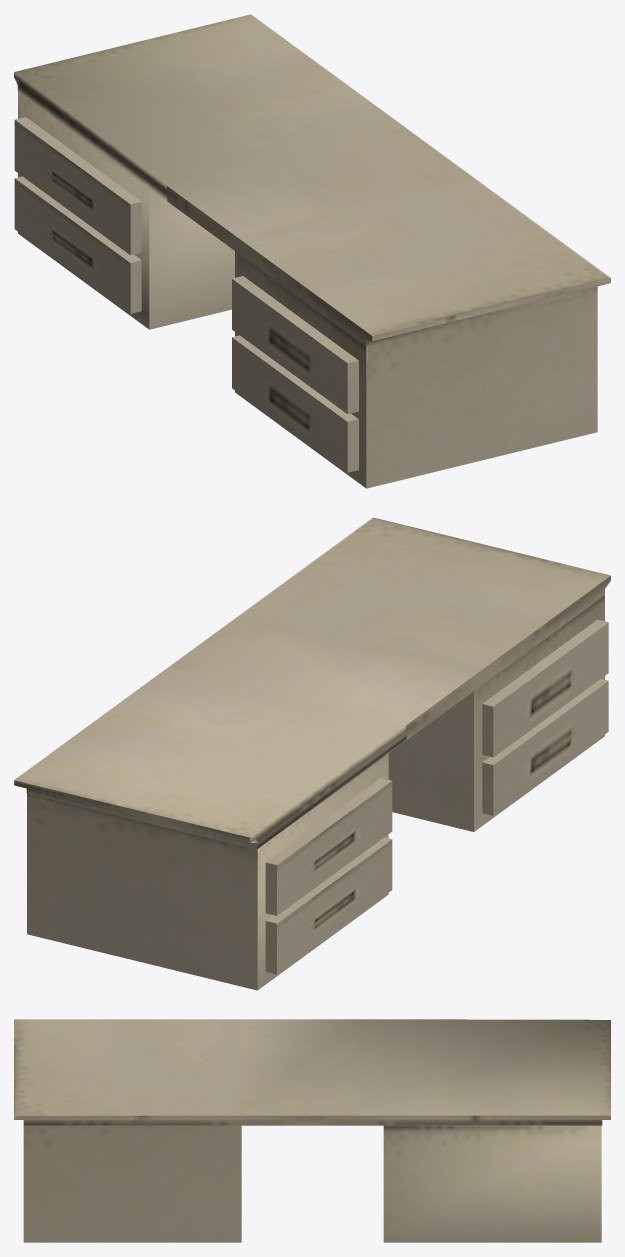
File: table.fbx
3 renders of one model, top to bottom at view 1: azimuth 30°, elevation 25°; view 2: azimuth 150°, elevation 25°; view 3: azimuth 270°, elevation 25°, orthographic. The views are drawn at different scales.
Parts seen in each view (by area): view 1: Table.001, Table.002; view 2: Table.001, Table.002; view 3: Table.001, Table.002.
Part boxes in pixels (x1,y1,x2,y2): Table.001: (14, 14, 610, 488); Table.002: (14, 92, 234, 329); Table.001: (14, 517, 610, 849); Table.002: (27, 754, 392, 990); Table.001: (14, 1019, 610, 1242); Table.002: (383, 1125, 601, 1242).
Size of the model in its own units: 2.16 by 1.3 by 5.39.
